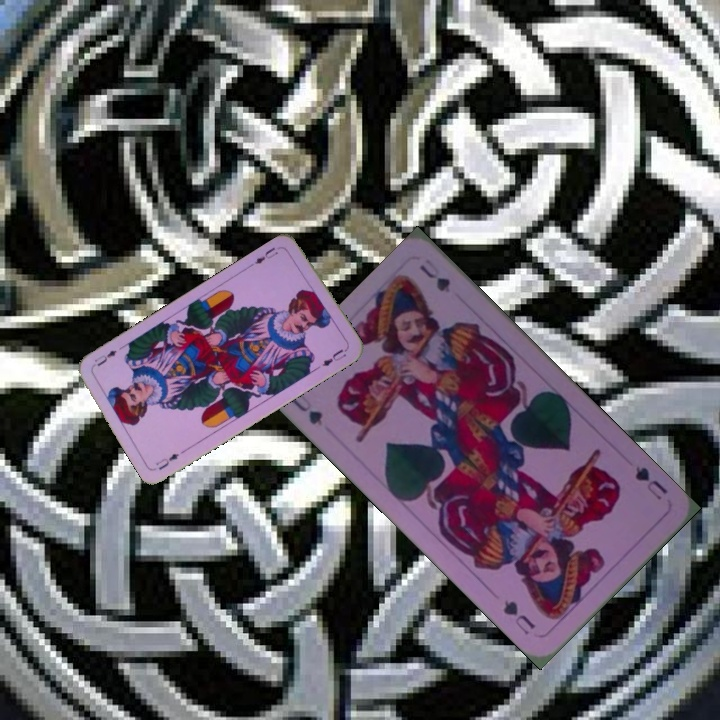EU: (151, 445, 189, 472), (248, 242, 285, 268)
GU: (631, 462, 671, 503), (287, 387, 325, 429)
